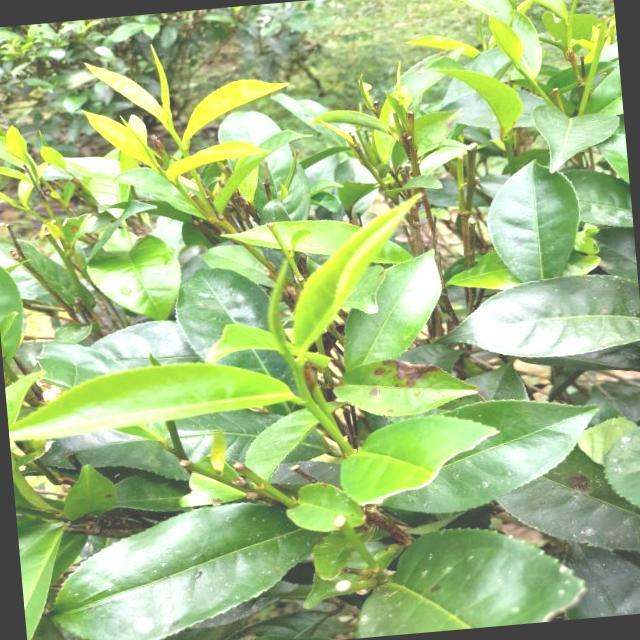Stem: (302, 395, 322, 417), (182, 150, 190, 158)
